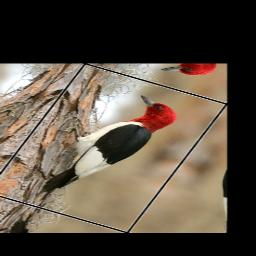Woodpecker: (11, 79, 189, 217)
